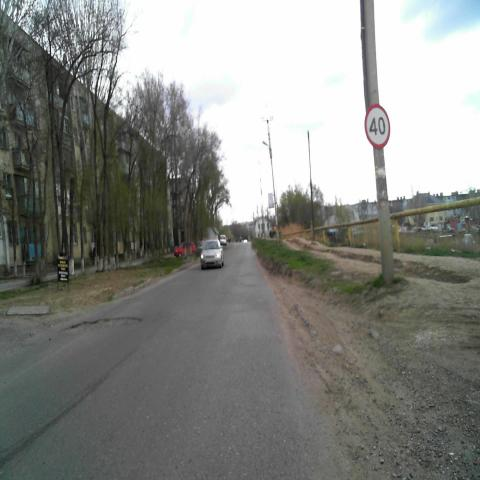3_24: (364, 102, 390, 149)
